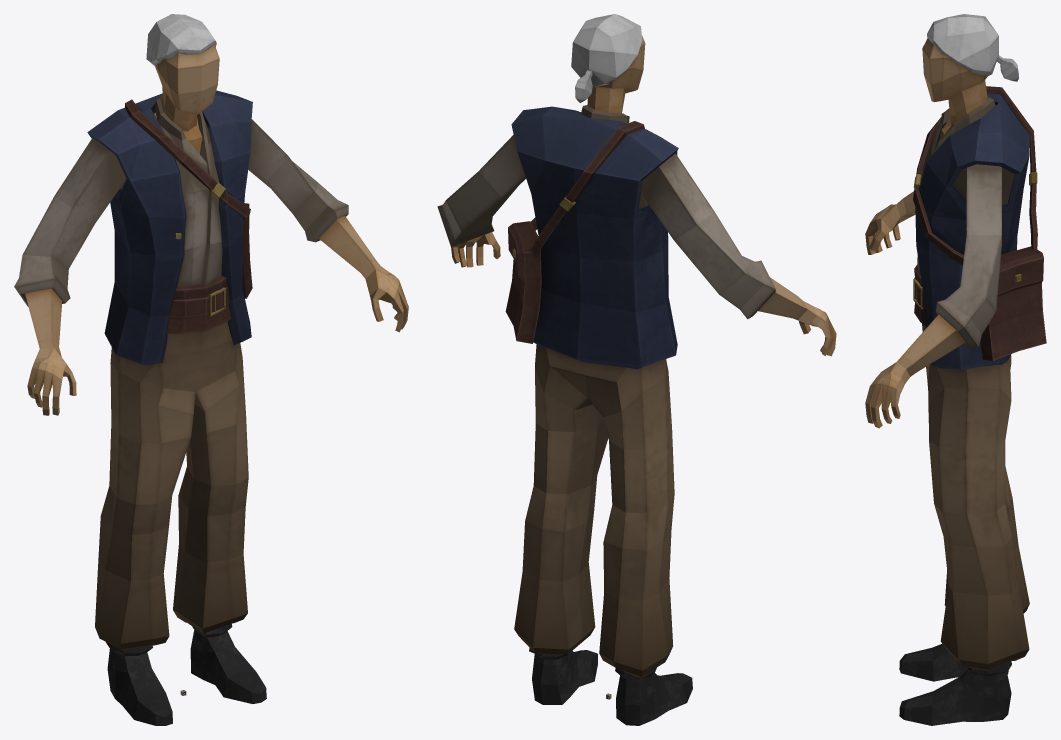
Rendered from player.fbx.
3 renders of one model, left to right at view 1: azimuth 30°, elevation 25°; view 2: azimuth 150°, elevation 25°; view 3: azimuth 270°, elevation 25°, orthographic.
Visible parts, largest first — view 1: Rio; view 2: Rio; view 3: Rio.
Boxes of the visible parts, bbox=[...] form: Rio: bbox=[14, 14, 408, 725]; Rio: bbox=[437, 14, 836, 725]; Rio: bbox=[865, 14, 1046, 725].
Bounding box in the file's own units: 103 × 177 × 42.87.
